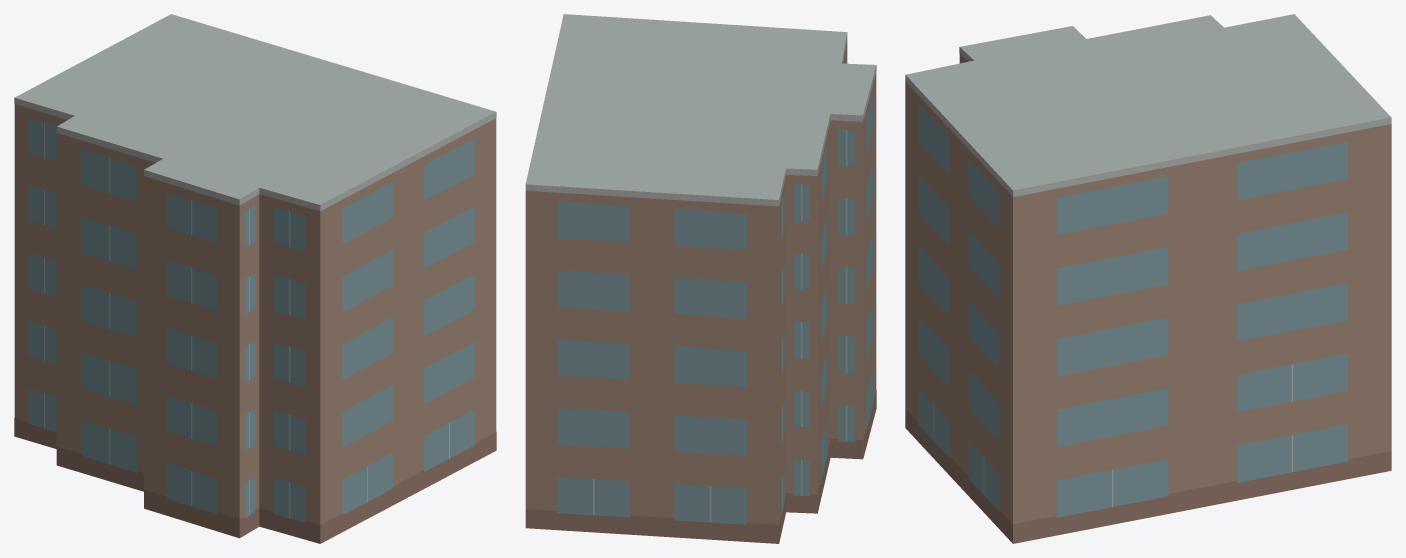
Rendered from survey-upis-32960704.glb.
3 renders of one model, left to right at view 1: azimuth 30°, elevation 25°; view 2: azimuth 150°, elevation 25°; view 3: azimuth 270°, elevation 25°, orthographic. The views are drawn at different scales.
Parts seen in each view (by area): view 1: survey-upis-32960704.tmp; view 2: survey-upis-32960704.tmp; view 3: survey-upis-32960704.tmp.
Boxes of the visible parts, bbox=[...] form: survey-upis-32960704.tmp: bbox=[14, 14, 496, 543]; survey-upis-32960704.tmp: bbox=[525, 14, 876, 543]; survey-upis-32960704.tmp: bbox=[905, 14, 1391, 543].
Bounding box in the file's own units: 14.27 × 13.3 × 16.6.
